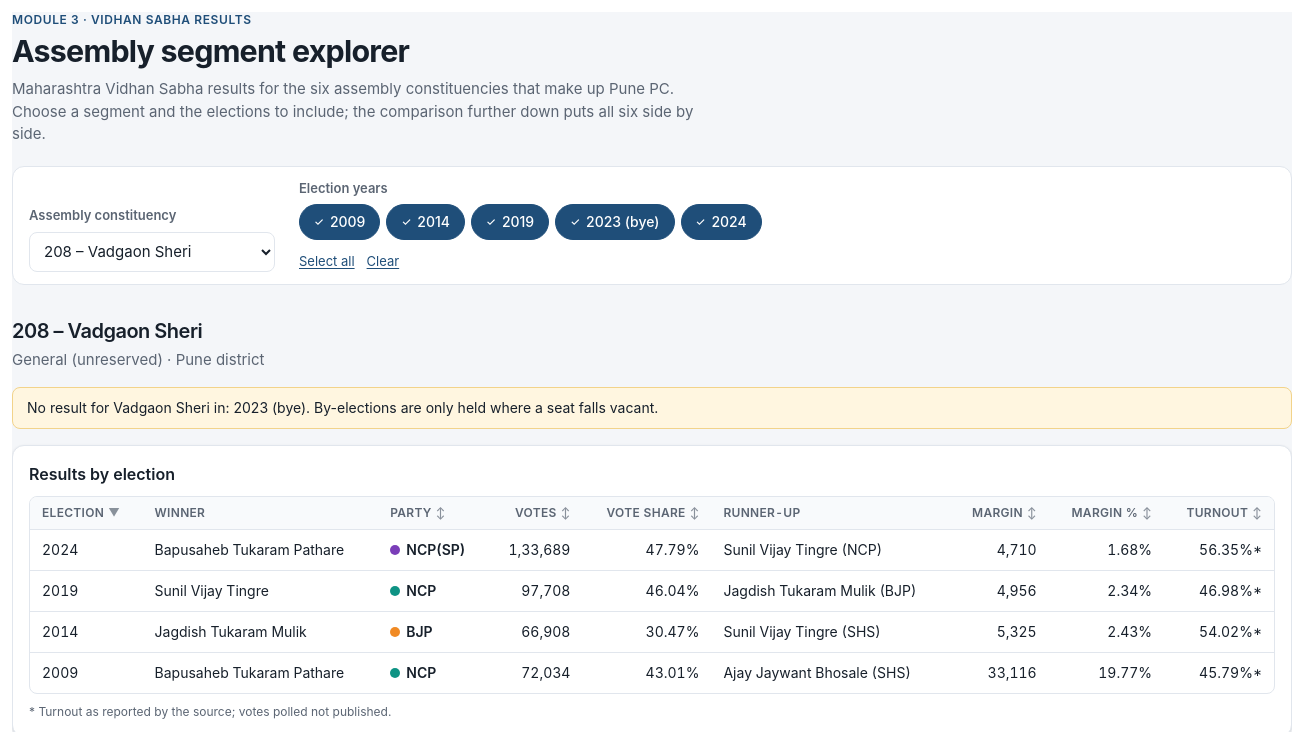
Test case: Assembly page (real data) › selecting a segment updates the results table and KPIs
Expected: the heading "208 – Vadgaon Sheri" is shown, [12,318,202,342]
Select "210 – Kothrud" in the dropdown labelled "Assembly constituency": (152, 252) [29,232,275,272]
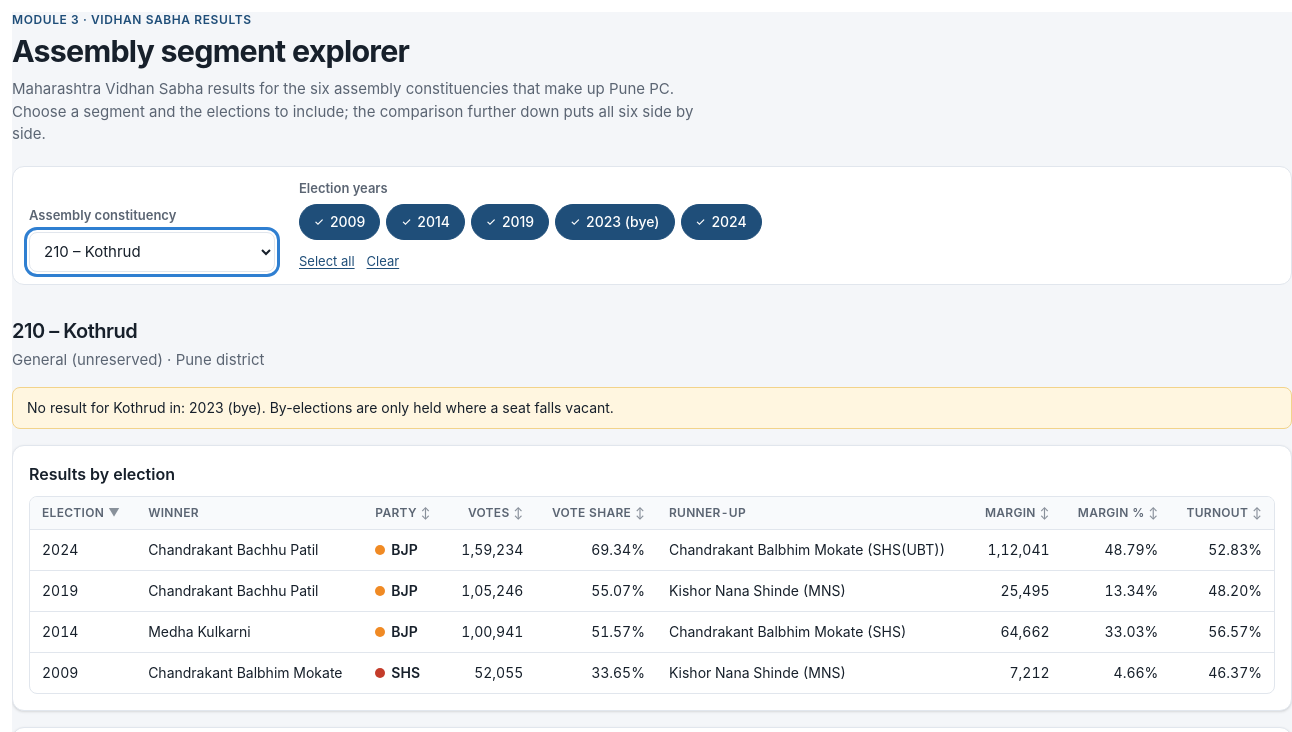
Result: the heading "210 – Kothrud" is shown at [12,318,137,342]
Result: the text "Chandrakant Bachhu Patil" in the row of "Chandrakant Balbhim Mokate (SHS(UBT))" is shown at [148,541,318,558]
